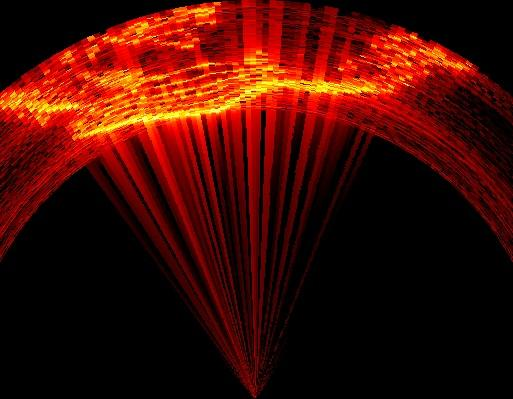shipwreck: (10, 27, 476, 138), (164, 3, 220, 49), (98, 20, 163, 52)
